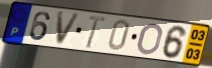0: (106, 19, 131, 53)
6: (162, 24, 188, 60), (29, 10, 51, 42)
O: (135, 22, 164, 57)
T: (84, 14, 107, 50)
V: (55, 11, 83, 47)
